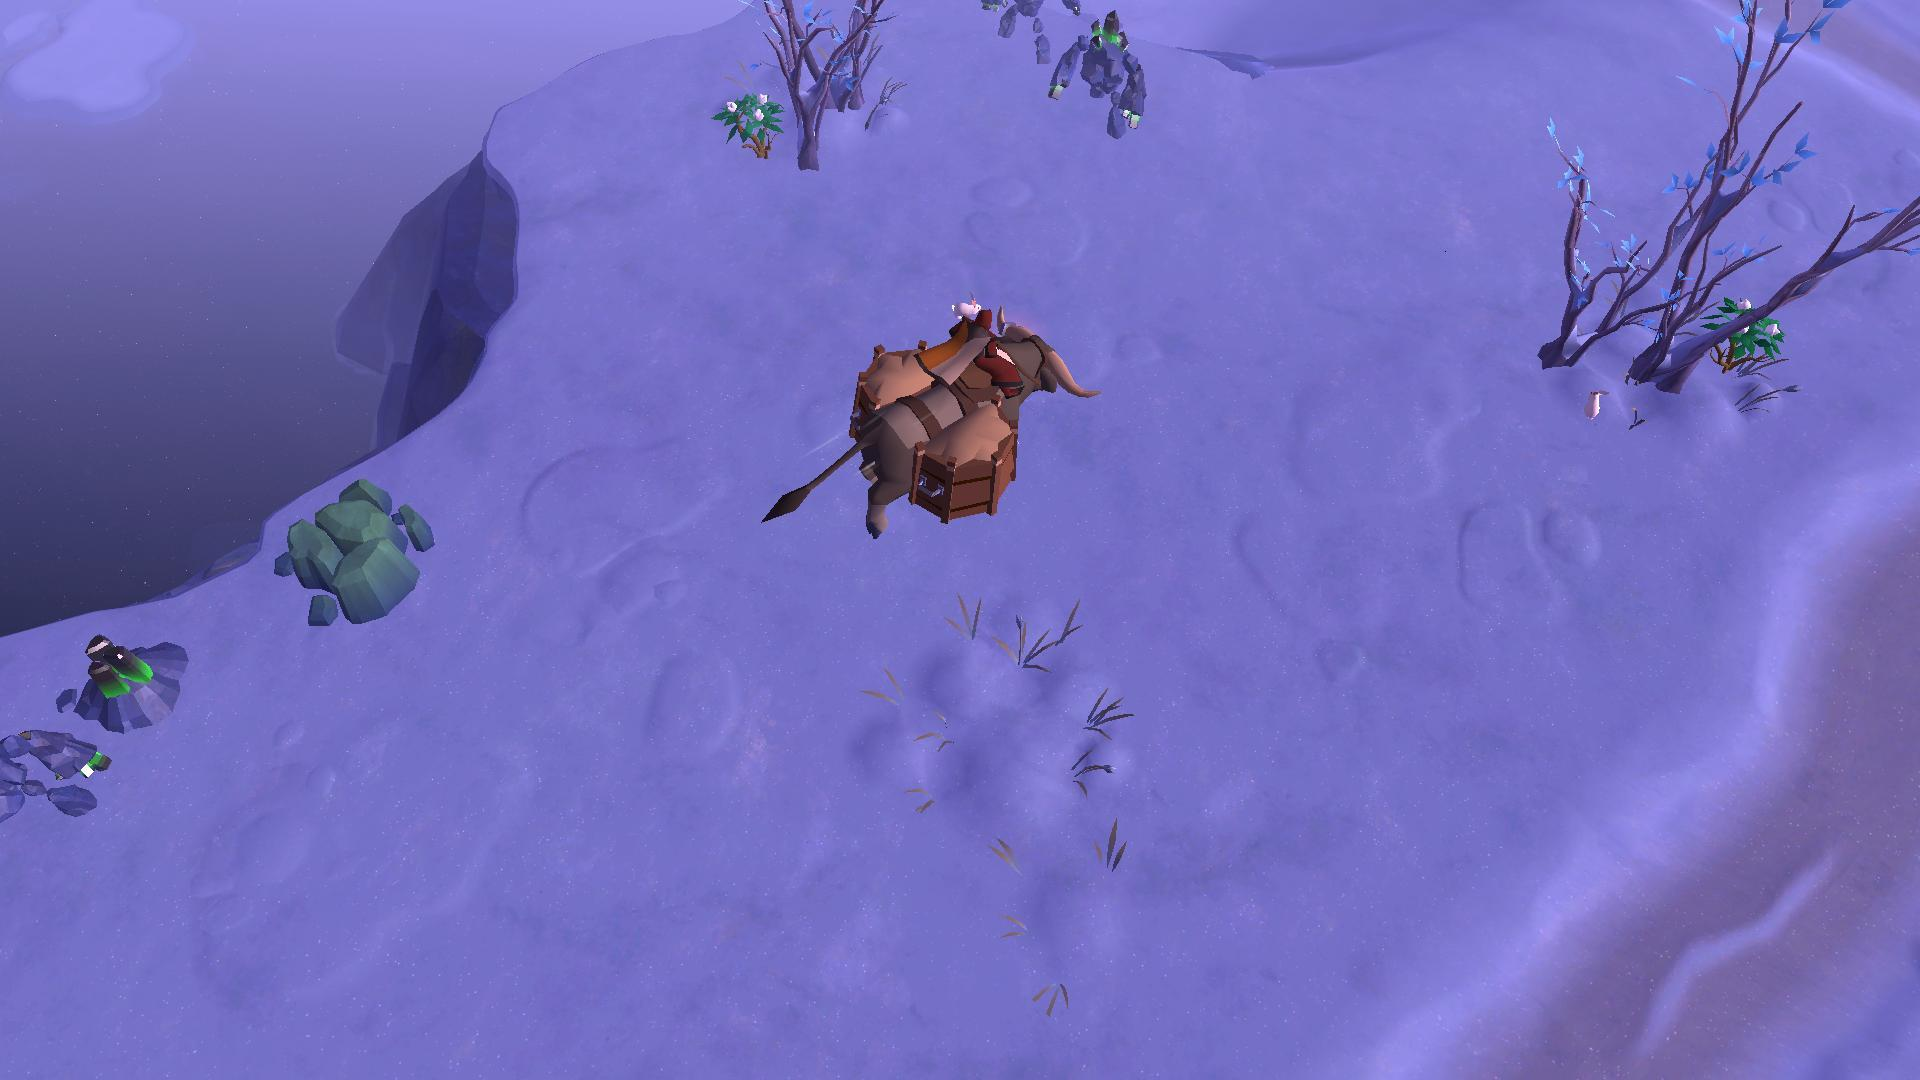fiber_t3: (707, 86, 790, 152)
ore_t3: (75, 629, 153, 708)
rock_t3: (251, 477, 444, 626)
